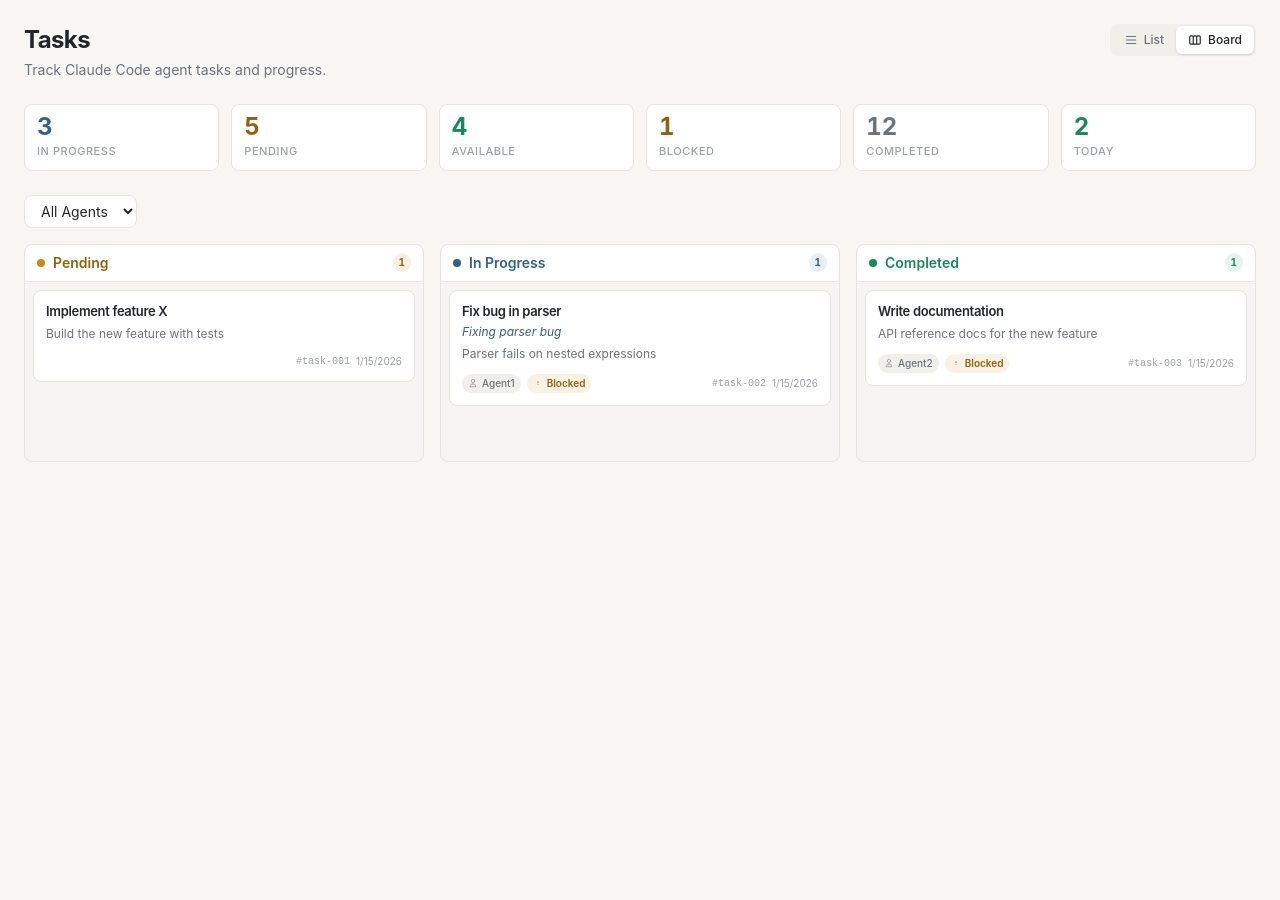
it: TasksPage — List View › switches to list view when list button is clicked
Click the button "list".
click(1144, 40)  # box [1112,26,1176,54]
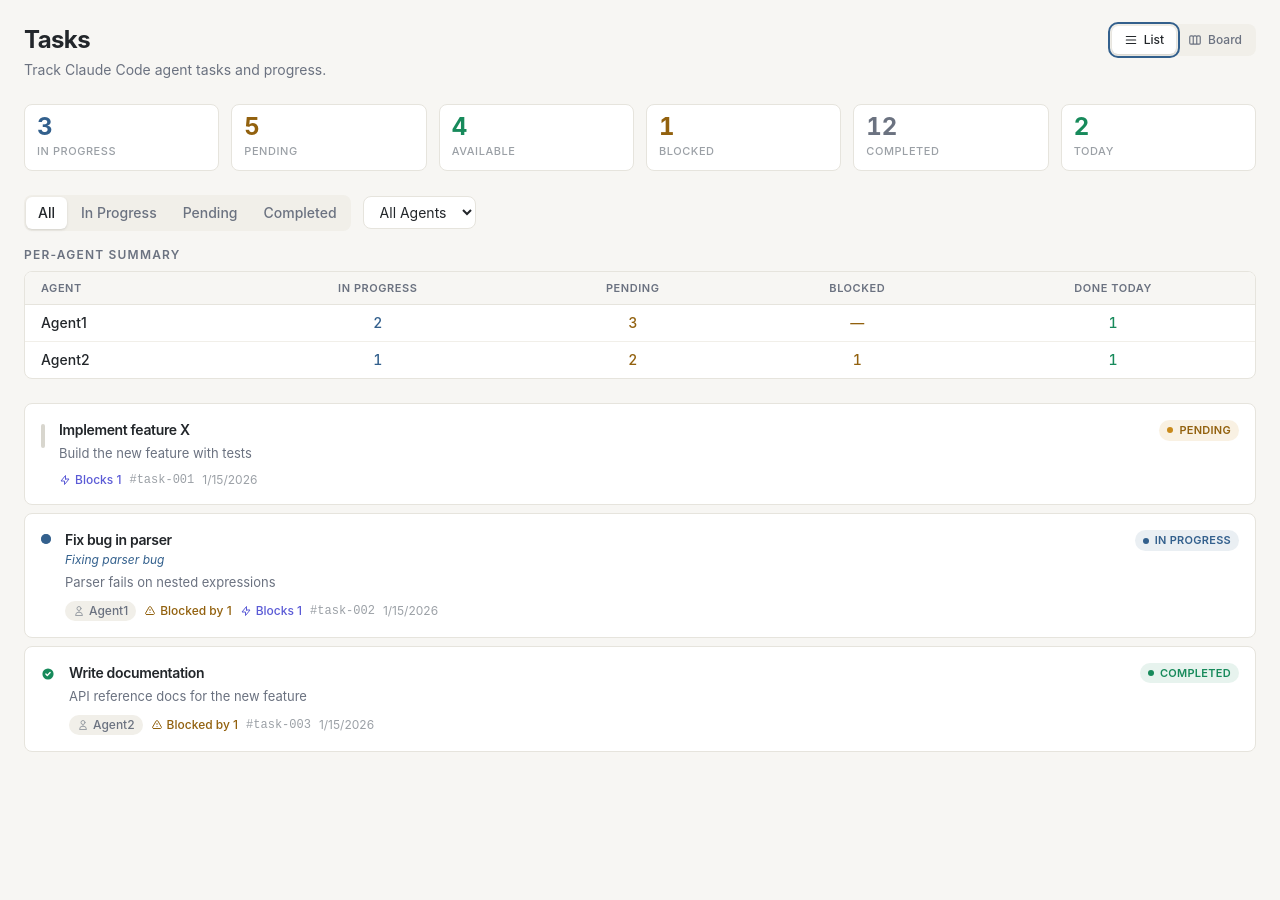
Expected: the button "All" is shown, [26,196,67,228]
